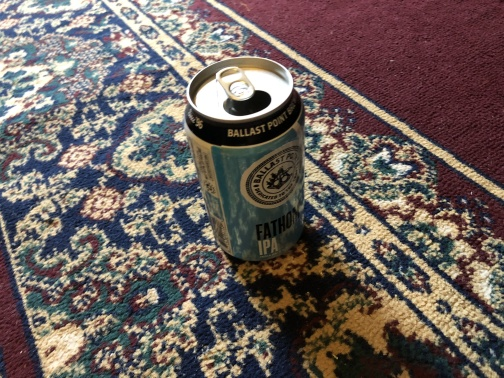can: (182, 55, 308, 267)
